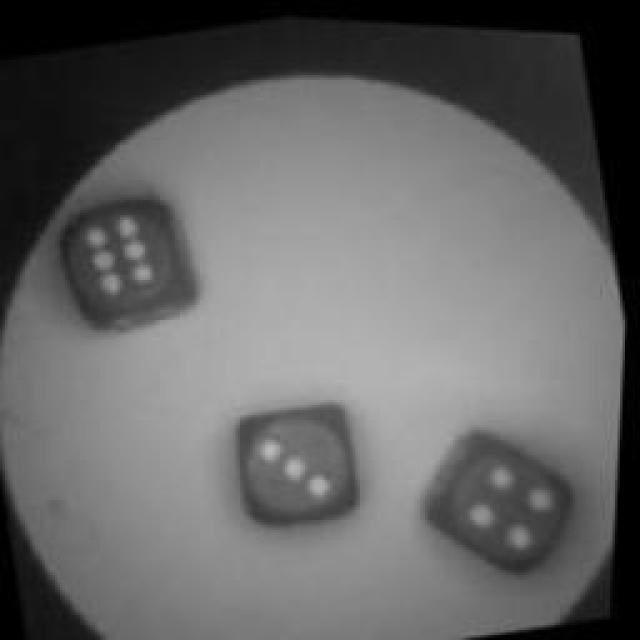dice_3: (226, 386, 379, 539)
dice_4: (422, 414, 586, 578)
dice_6: (51, 173, 211, 345)
